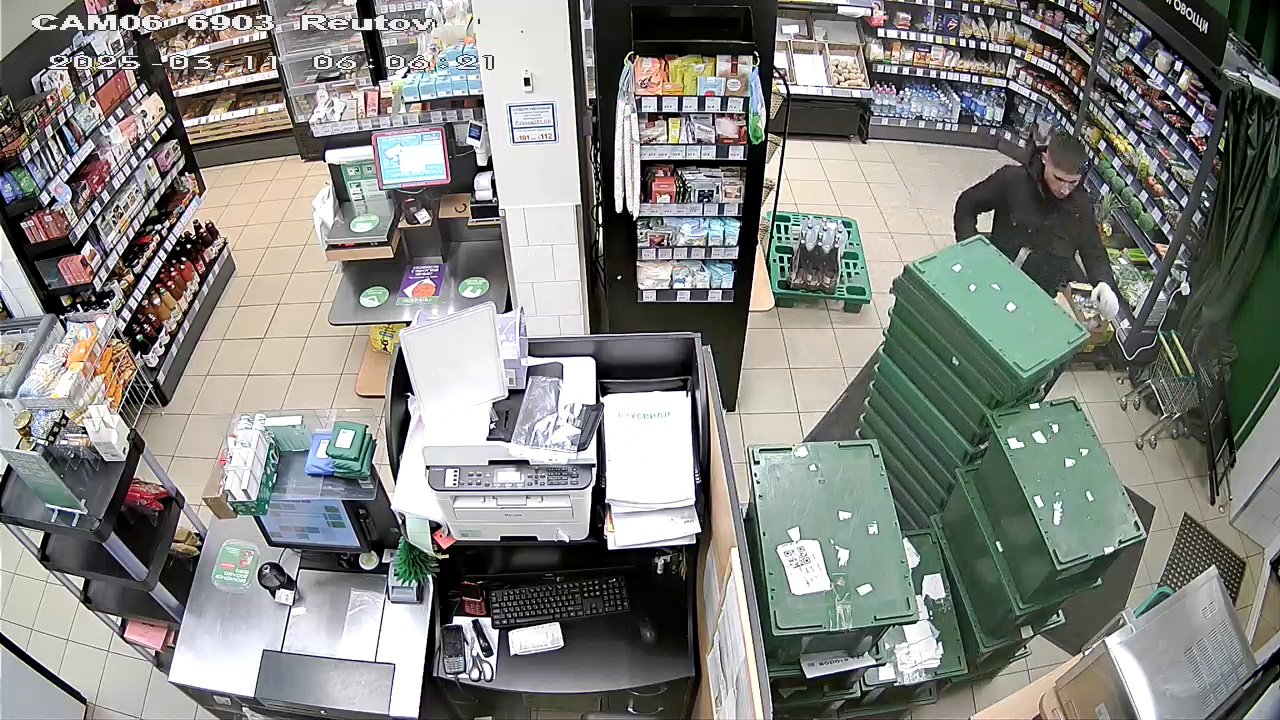Human: (942, 128, 1128, 322)
